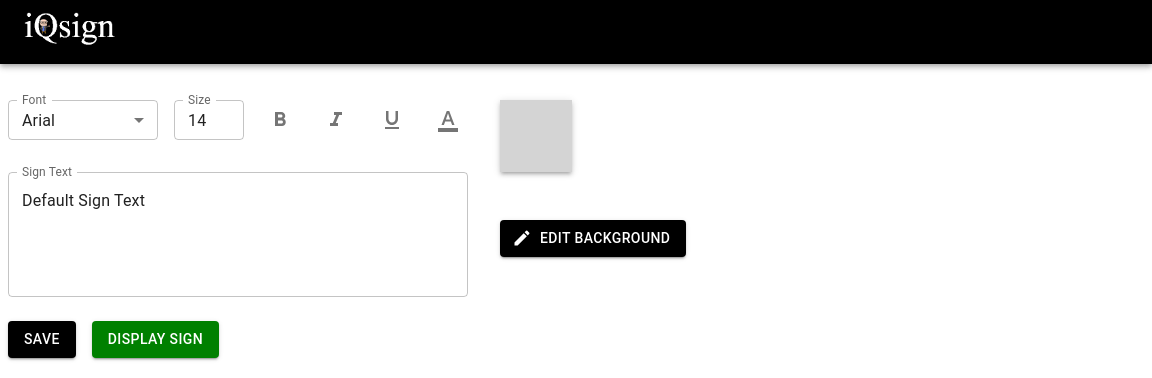
Test case: Sign Editor Component › Component Interactions › allows modifying text in multiline input
This screenshot has width=1152, height=378.
Replace the text in the text box with id "outlined-multiline" with "This is a test sign text": (238, 235) [22,189,454,281]
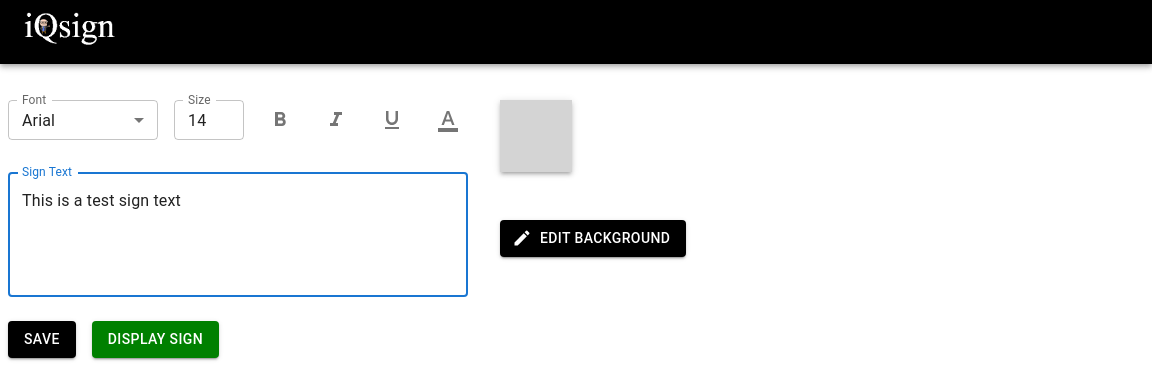
Expected: the text box with id "outlined-multiline" holds "This is a test sign text", [22,189,454,281]
